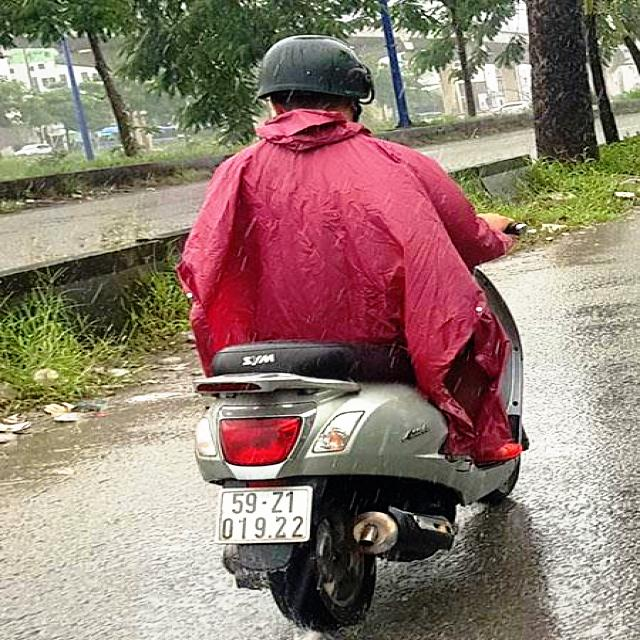license_plate: (222, 488, 310, 545)
